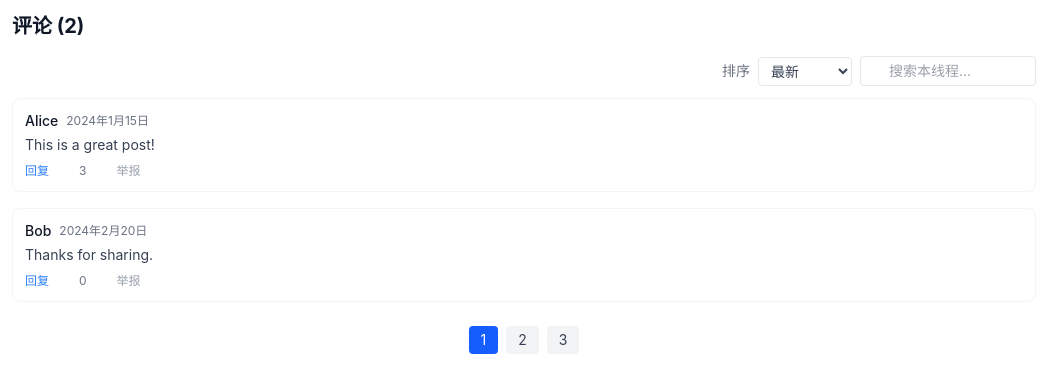
Scenario: CommentList › Comment flag/report (DEC-108, TASK-166) › flags a comment and marks it locally
The image size is (1048, 371).
Click the button with class "comment-flag" below "This is a great post!" at (119, 171), box top-left (98, 163), bottom-right (140, 179)
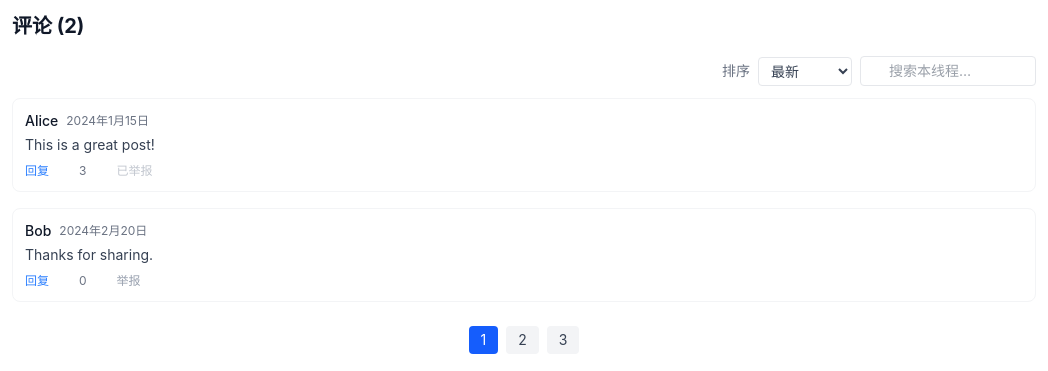
Expected: the button with class "comment-flag" reads "已举报", top-left (98, 163), bottom-right (152, 179)
